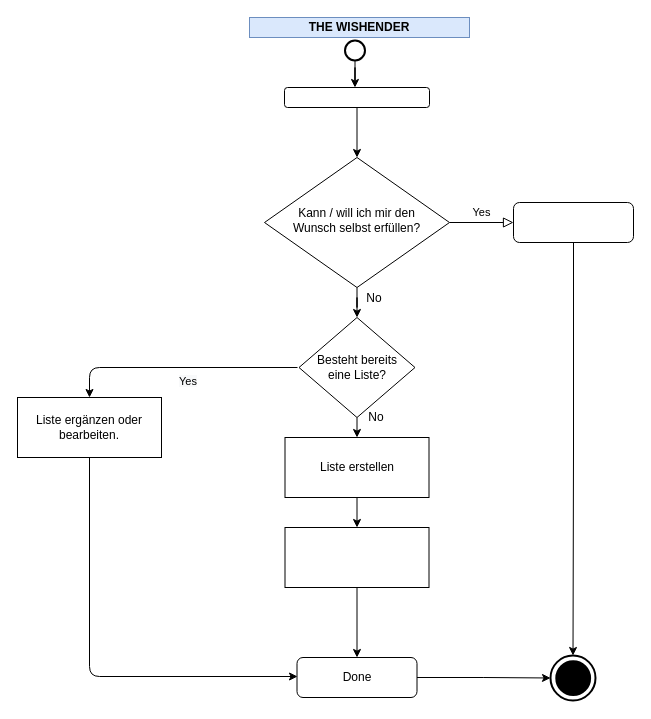
Image size: 651x719. Some labels were removed from this diagram. Each missing label, with the centre of its shape:
Ein Wunsch kommt auf: pixel 357 97
Just do it! :): pixel 573 222
Wünsche eintragen: pixel 356 557
